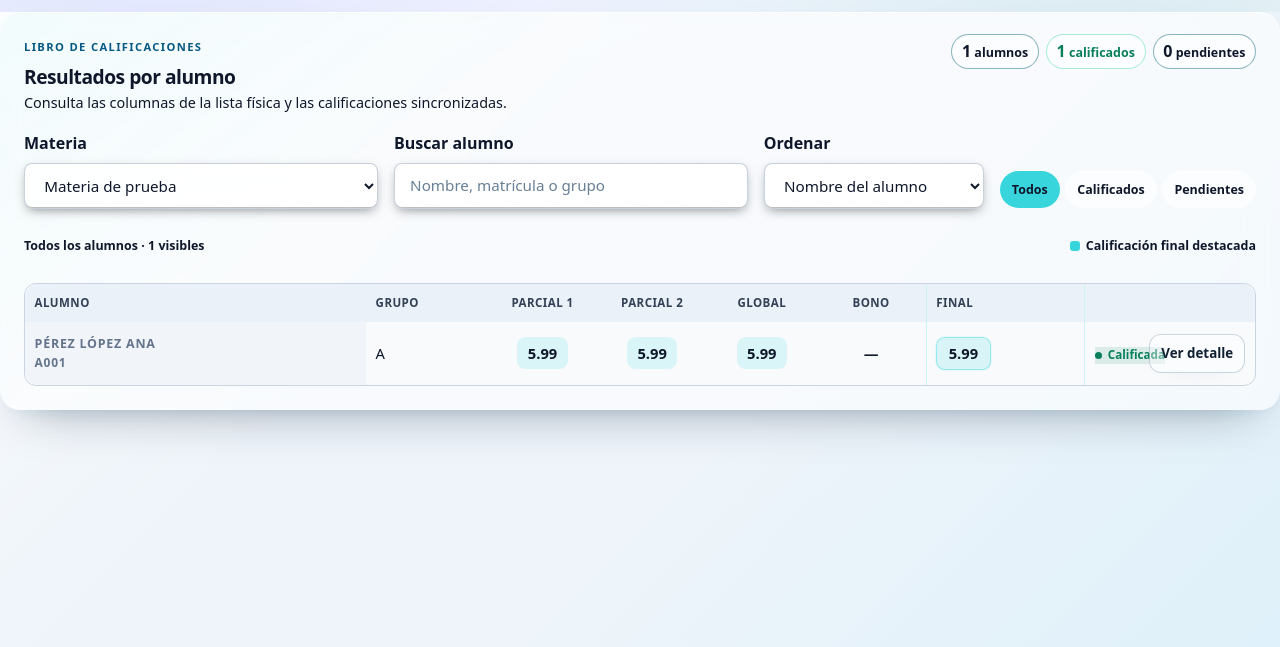
Test: ConsultaCalificaciones › muestra Extra solo con final reprobatoria y persiste la solicitud explícita del docente
Click the button with aria-label "Ver detalle de Pérez López Ana".
click(1197, 353)  # box [1149,334,1245,373]
(page scrolled)
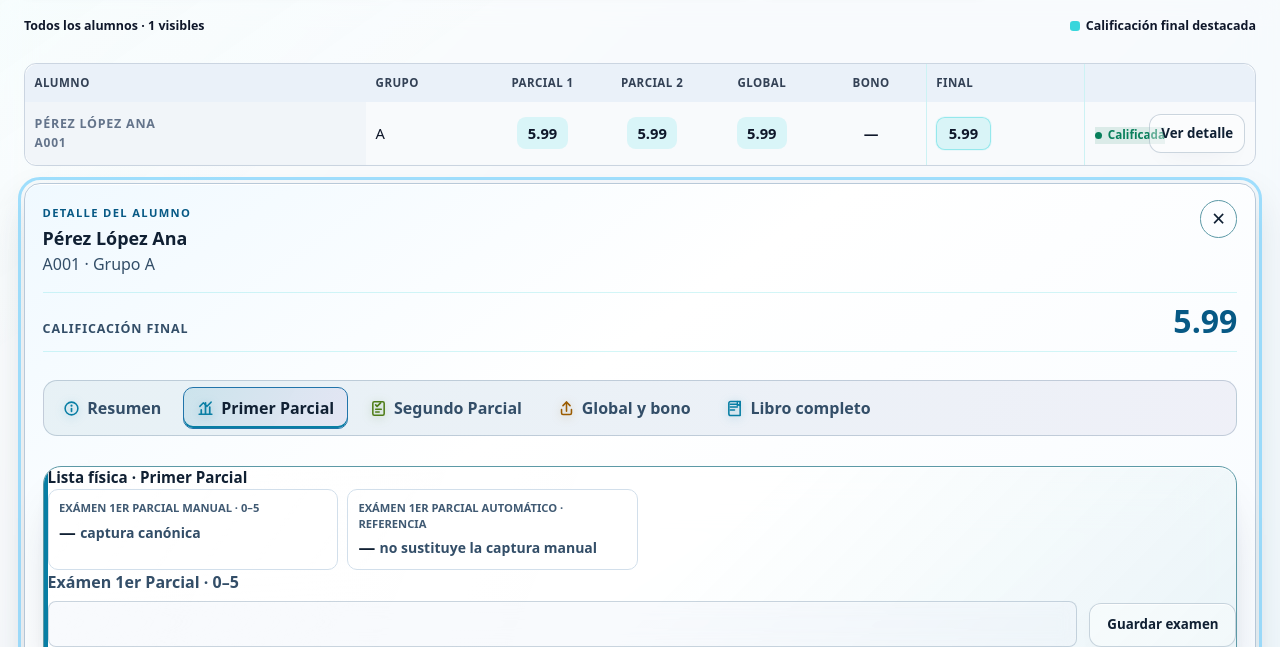
Click the button "Resumen".
click(112, 408)  # box [49,387,175,429]
(page scrolled)
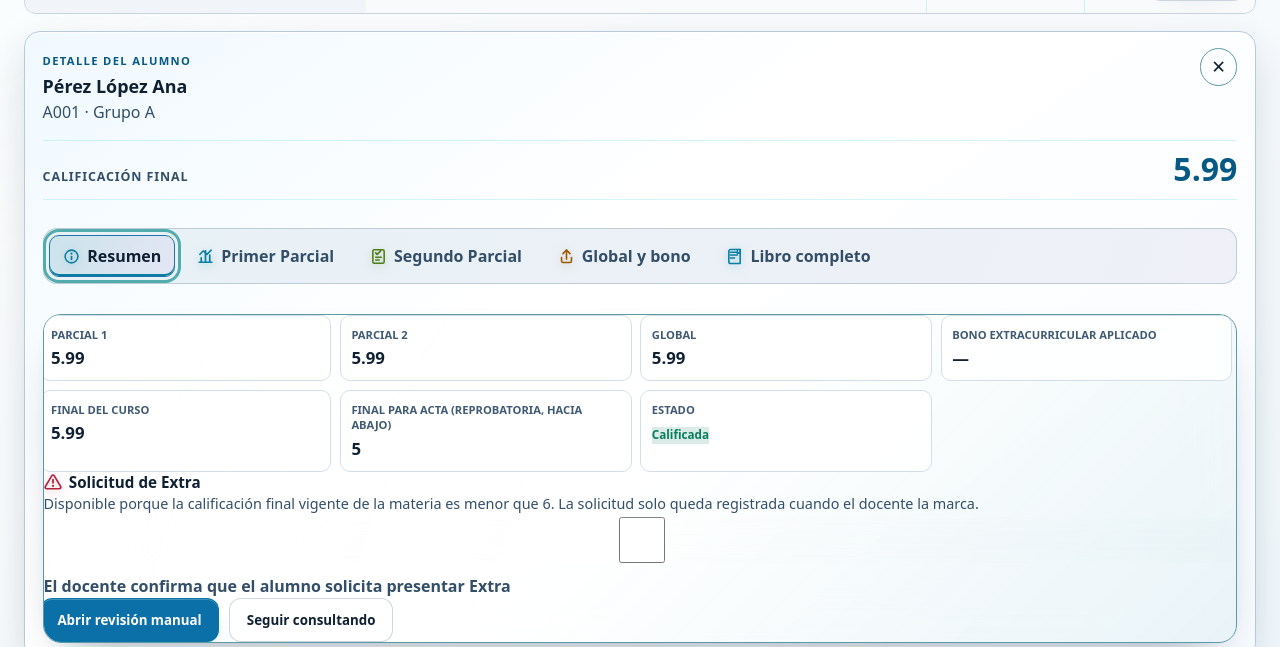
Expected: the text "Calificación 2.29 / 5 · equivalente 4.57 / 10 · No aprobatoria" is not shown
Expected: the checkbox labelled "El docente confirma que el alumno solicita presentar Extra" is not checked
Click the checkbox labelled "El docente confirma que el alumno solicita presentar Extra".
click(642, 540)  # box [48,517,1236,563]
(page scrolled)
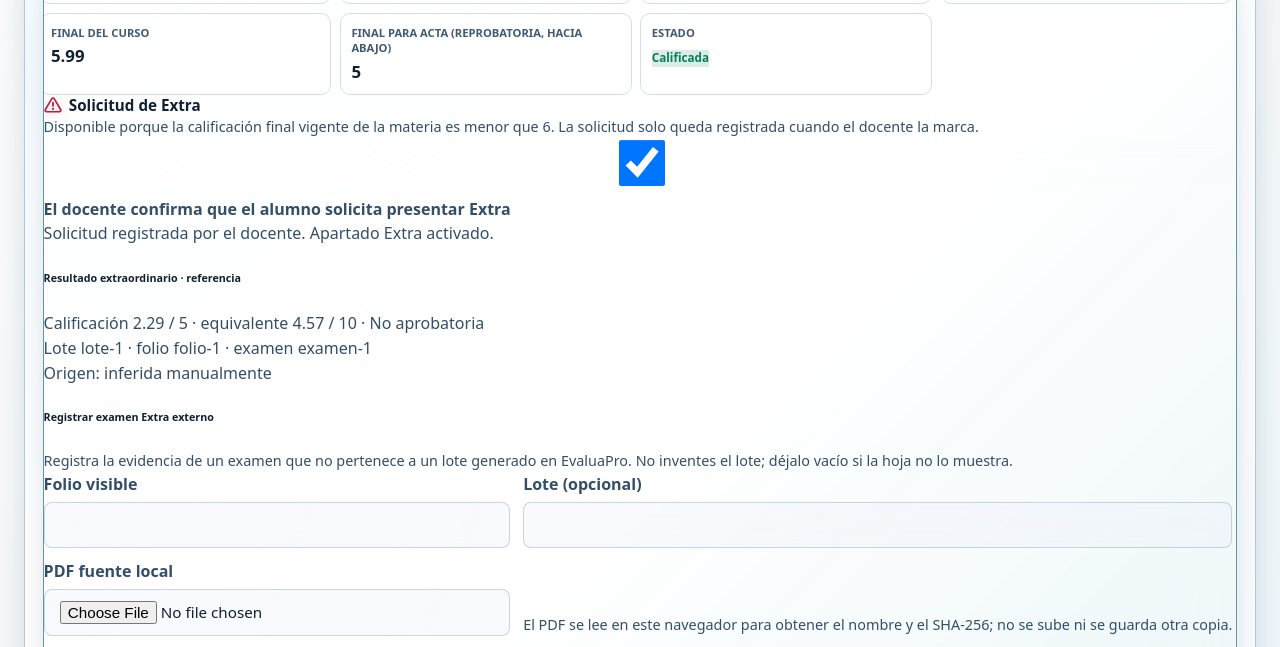
Expected: the text "Calificación 2.29 / 5 · equivalente 4.57 / 10 · No aprobatoria" is shown, [44,312,484,334]
Expected: the text "Lote lote-1 · folio folio-1 · examen examen-1" is shown, [44,337,372,359]
